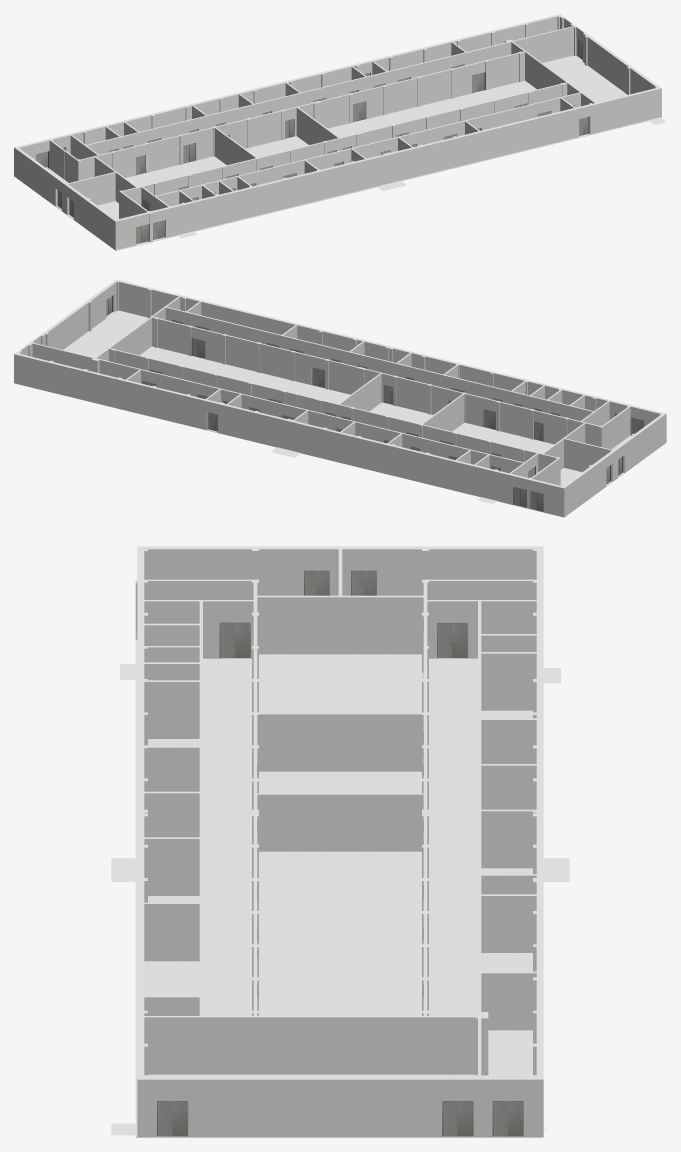
Rendered from Room9D.FBX.
3 views of the same model, one above another, from view 1: azimuth 30°, elevation 25°; view 2: azimuth 150°, elevation 25°; view 3: azimuth 270°, elevation 25° (orthographic). The views are drawn at different scales.
Parts seen in each view (by area): view 1: Room9; view 2: Room9; view 3: Room9.
Part boxes in pixels (box(x1,y1,x2,y2)): Room9: box(14, 14, 666, 250); Room9: box(14, 279, 666, 517); Room9: box(111, 546, 569, 1137).
Bounding box in the file's own units: 72.4 × 3.66 × 26.29.
